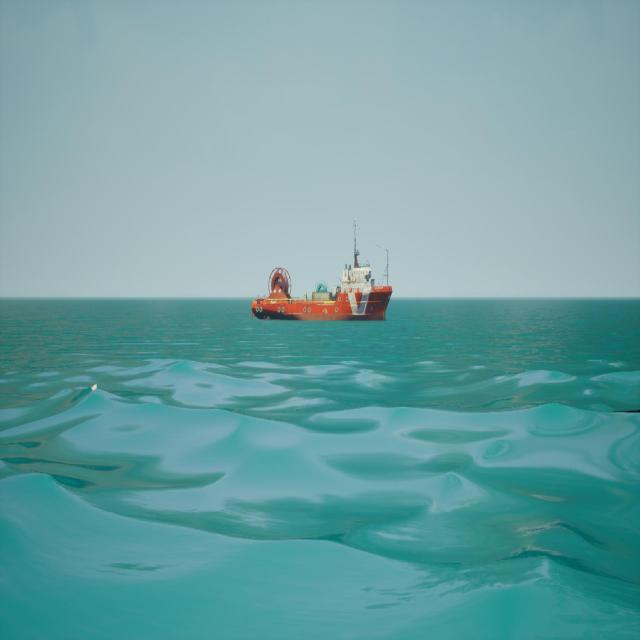tug boat: (253, 220, 395, 324)
